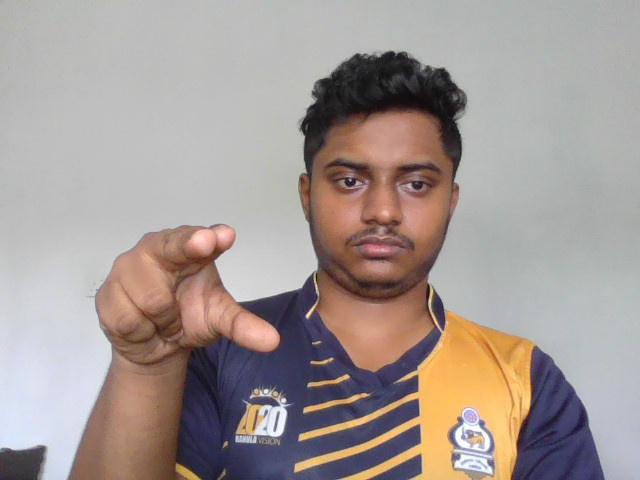No: (93, 223, 282, 366)
